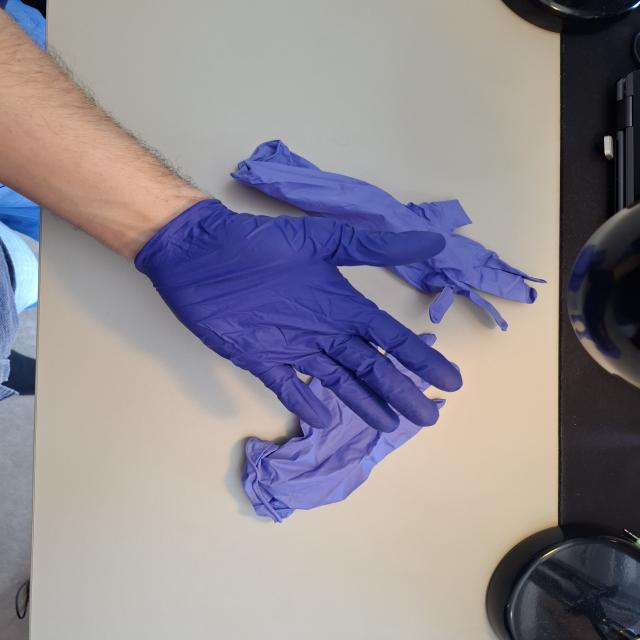glove_on: (132, 201, 464, 432)
